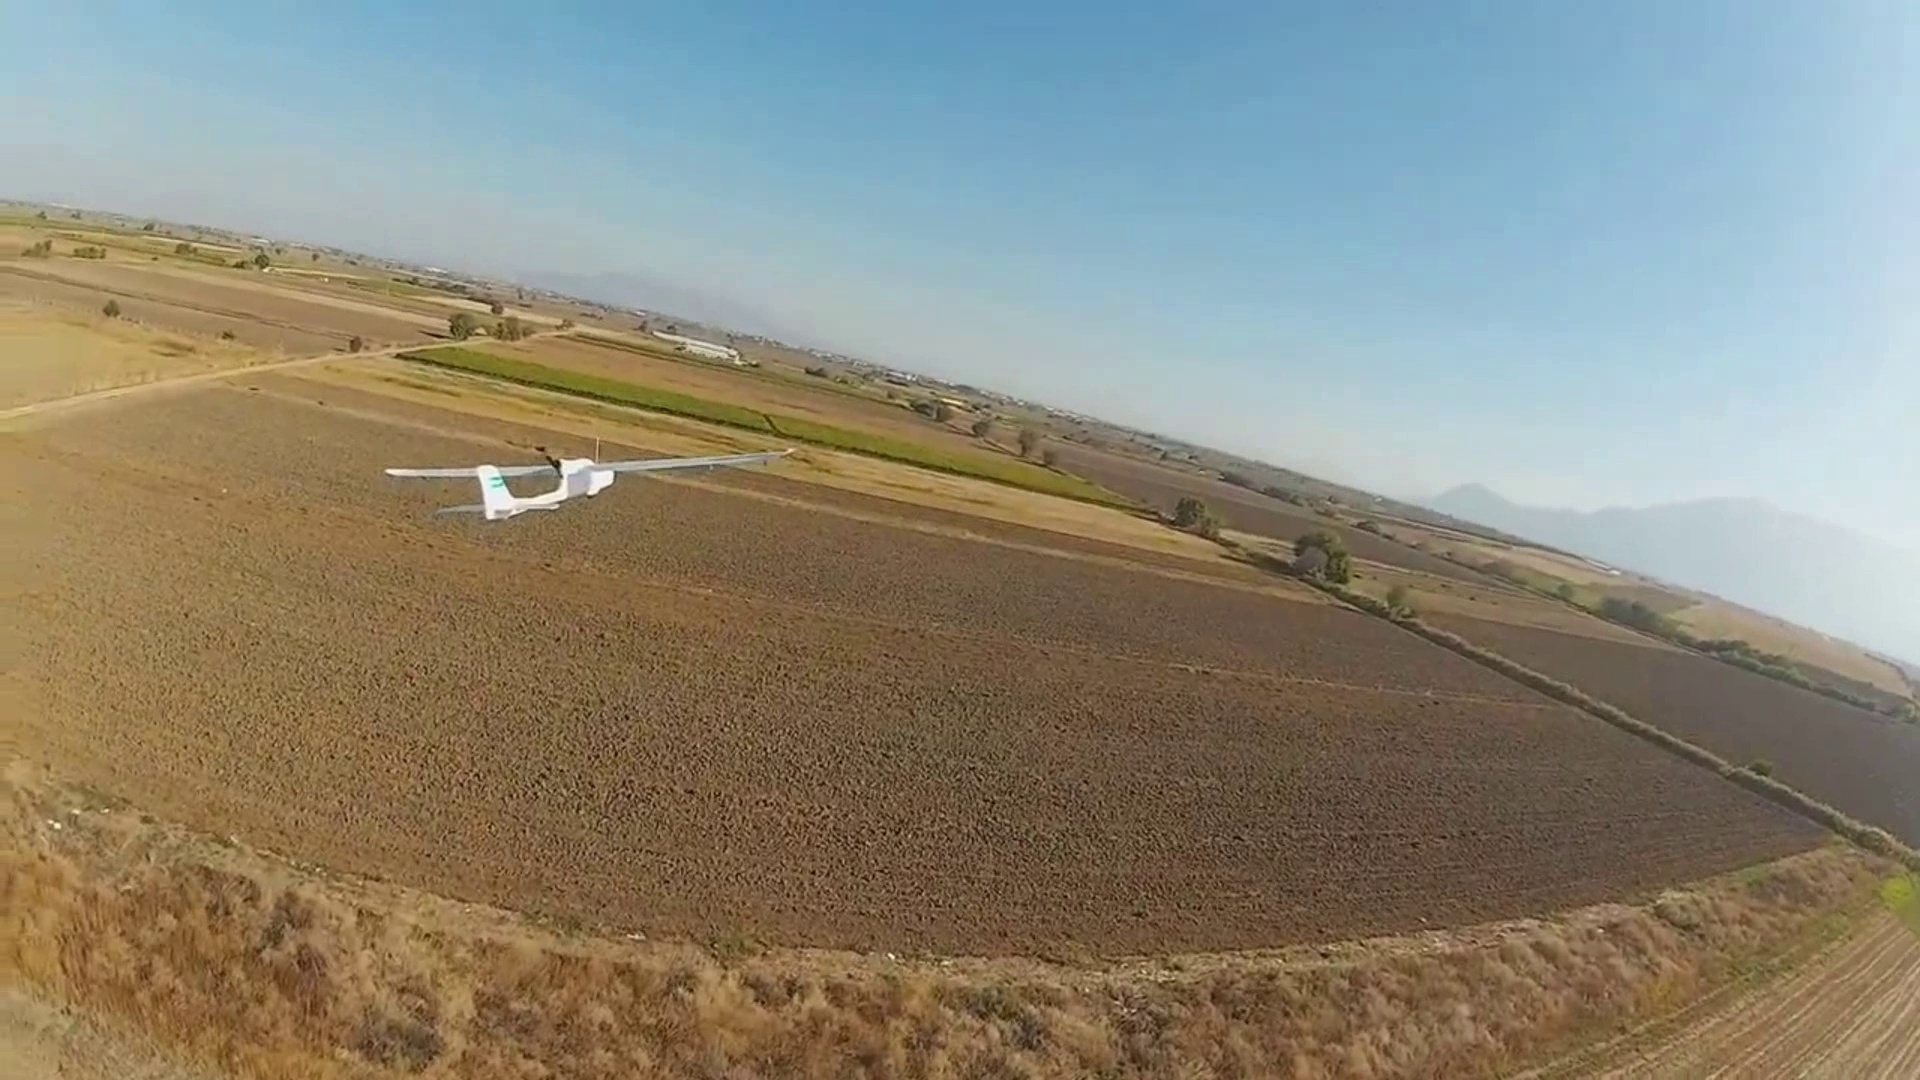airplane: (384, 455, 616, 521)
